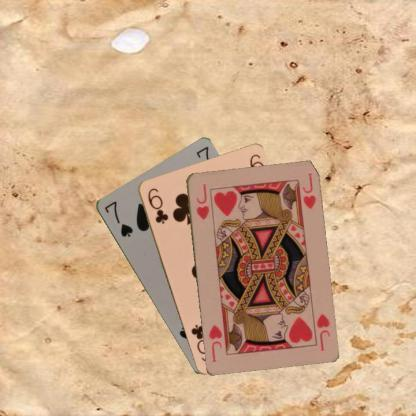6c: (144, 185, 170, 225)
7s: (101, 198, 134, 238)
Jh: (314, 310, 332, 352), (192, 181, 210, 221)
